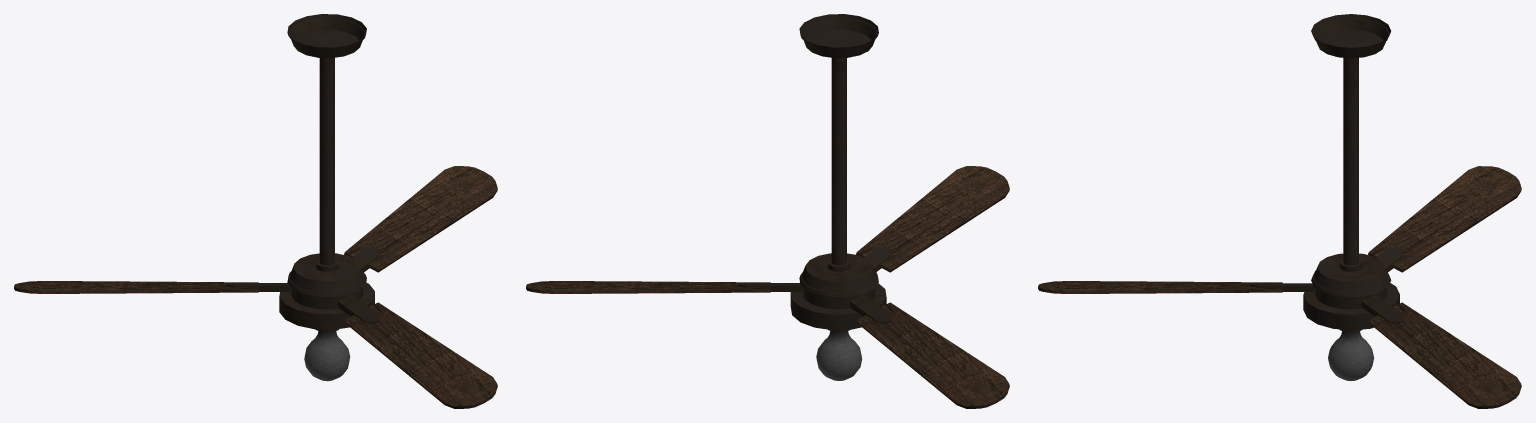
Rendered from ceiling_fan_mp_1_1_light_off.glb.
The picture shows the model from 3 angles, left to right: view 1: azimuth 30°, elevation 25°; view 2: azimuth 150°, elevation 25°; view 3: azimuth 270°, elevation 25°; orthographic projection.
Parts seen in each view (by area): view 1: ceiling_fan_mp_1_1_light_off_blades, ceiling_fan_mp_1_1_light_off; view 2: ceiling_fan_mp_1_1_light_off_blades, ceiling_fan_mp_1_1_light_off; view 3: ceiling_fan_mp_1_1_light_off_blades, ceiling_fan_mp_1_1_light_off.
Boxes of the visible parts, x1,y1,x2,y2 form: ceiling_fan_mp_1_1_light_off_blades: [14, 166, 497, 408]; ceiling_fan_mp_1_1_light_off: [279, 14, 374, 381]; ceiling_fan_mp_1_1_light_off_blades: [526, 166, 1009, 408]; ceiling_fan_mp_1_1_light_off: [790, 14, 886, 380]; ceiling_fan_mp_1_1_light_off_blades: [1038, 166, 1521, 408]; ceiling_fan_mp_1_1_light_off: [1303, 14, 1399, 380].
Size of the model in its own units: 1.02 by 0.7128 by 0.8979.
3 materials, 3 textured.
